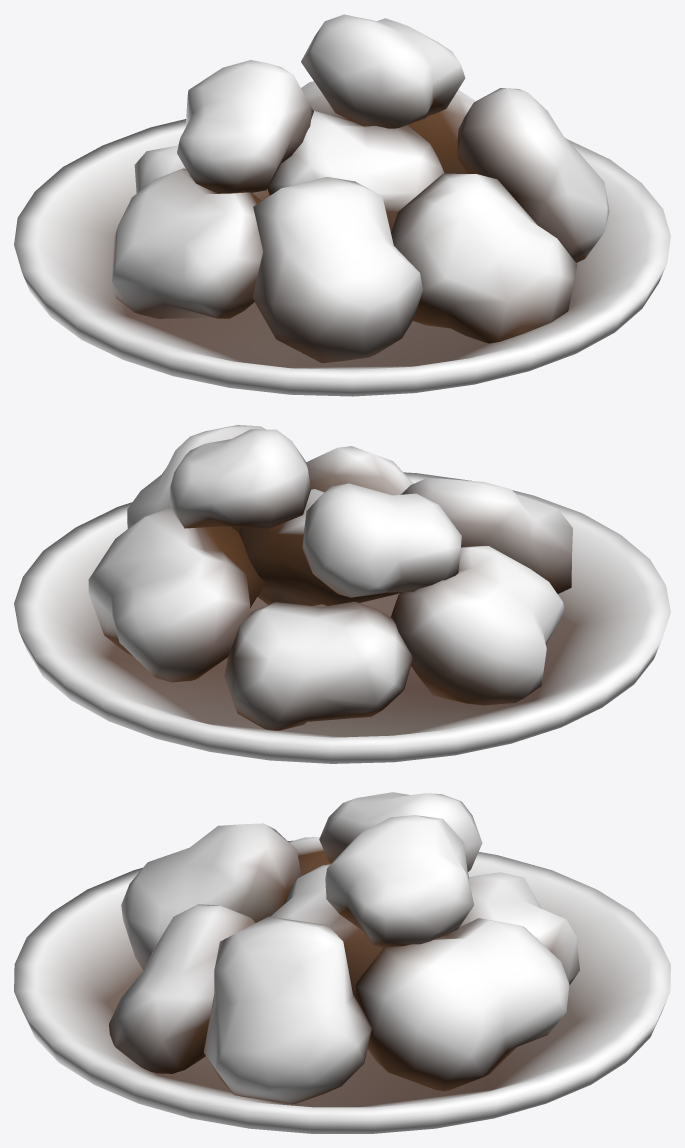
The model's file is sb_obj_indoor015_Vegetables03b.fbx.
3 renders of one model, top to bottom at view 1: azimuth 30°, elevation 25°; view 2: azimuth 150°, elevation 25°; view 3: azimuth 270°, elevation 25°, orthographic.
Visible parts, largest first — view 1: sb_obj_indoor015_Vegetables03b; view 2: sb_obj_indoor015_Vegetables03b; view 3: sb_obj_indoor015_Vegetables03b.
Part boxes in pixels (<box>): sb_obj_indoor015_Vegetables03b: <box>14,14,670,396</box>; sb_obj_indoor015_Vegetables03b: <box>14,425,670,763</box>; sb_obj_indoor015_Vegetables03b: <box>14,792,670,1133</box>.
Bounding box in the file's own units: 0.3775 × 0.1571 × 0.3775.
